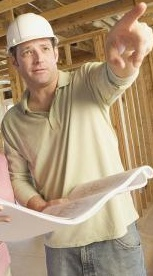hard-hat: (6, 11, 56, 53)
